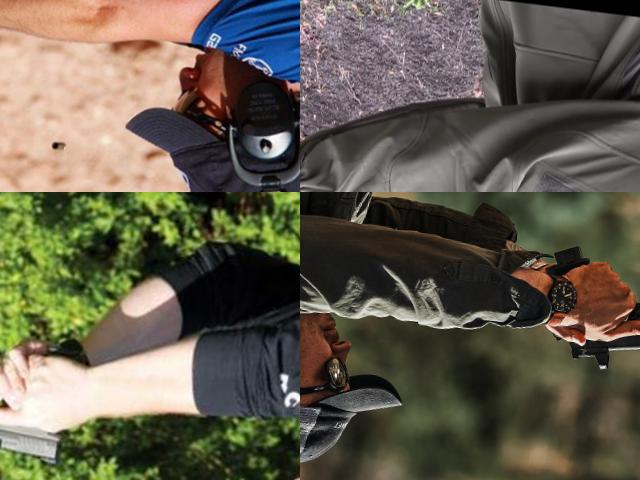handgun: (528, 238, 640, 382), (0, 316, 96, 470), (0, 0, 87, 75)
